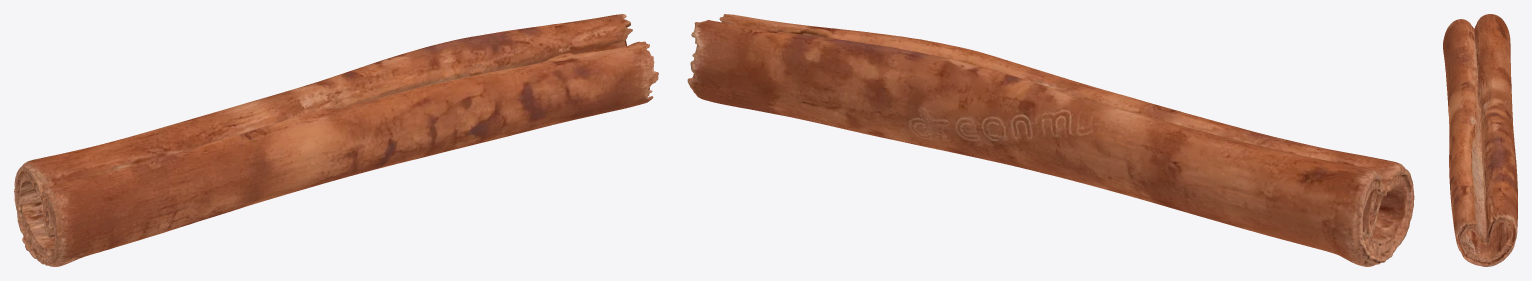
File: stick.glb
The picture shows the model from 3 angles, left to right: view 1: azimuth 30°, elevation 25°; view 2: azimuth 150°, elevation 25°; view 3: azimuth 270°, elevation 25°; orthographic projection. The views are drawn at different scales.
Bounding box in the file's own units: 1.9 × 0.3173 × 0.2972.
1 material, 1 textured.
